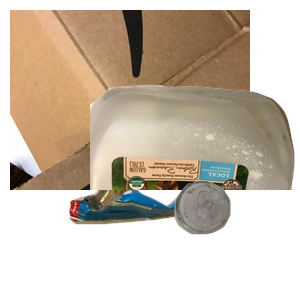cardboard: (10, 10, 250, 190)
glass: (172, 178, 300, 300)
plastic: (90, 82, 300, 262)
trash: (66, 173, 272, 300)
